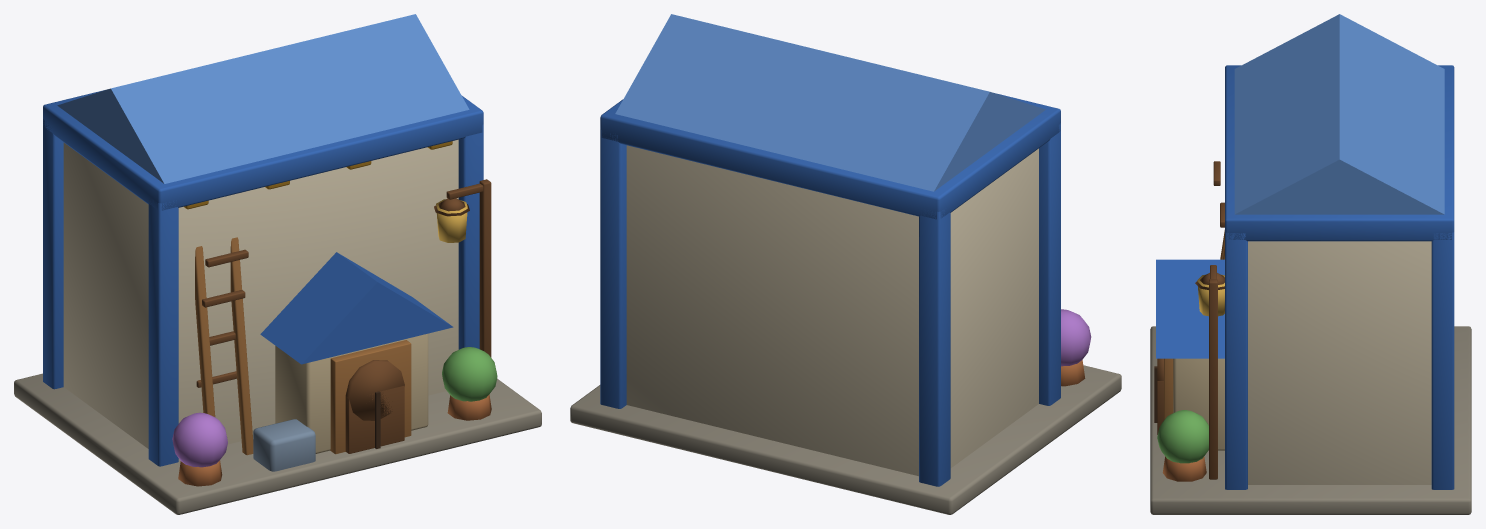
File: k_camp_mage.glb
The picture shows the model from 3 angles, left to right: view 1: azimuth 30°, elevation 25°; view 2: azimuth 150°, elevation 25°; view 3: azimuth 270°, elevation 25°; orthographic projection. The views are drawn at different scales.
Parts seen in each view (by area): view 1: SK_k_camp_mage; view 2: SK_k_camp_mage; view 3: SK_k_camp_mage.
Boxes of the visible parts, x1,y1,x2,y2 form: SK_k_camp_mage: [14, 14, 541, 514]; SK_k_camp_mage: [570, 14, 1121, 514]; SK_k_camp_mage: [1150, 14, 1471, 514].
Size of the model in its own units: 3.6 by 3.29 by 2.8.
